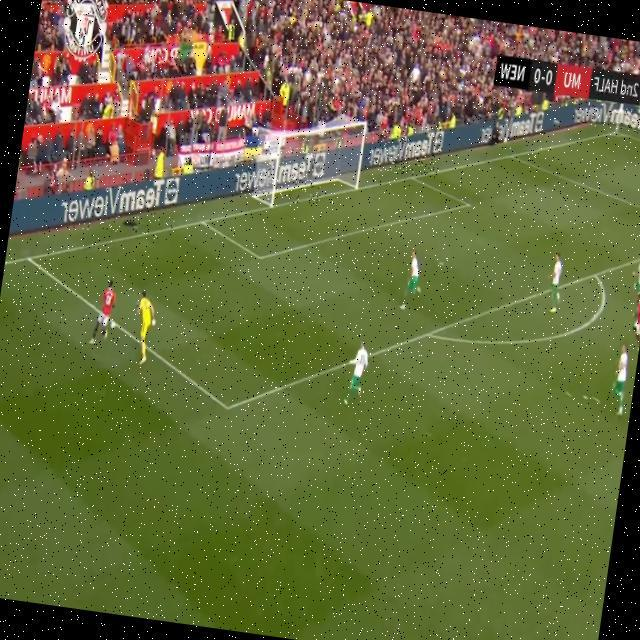TeamViewer: (59, 161, 181, 242), (233, 140, 327, 207), (367, 120, 445, 179), (479, 105, 544, 154), (571, 100, 640, 135)
